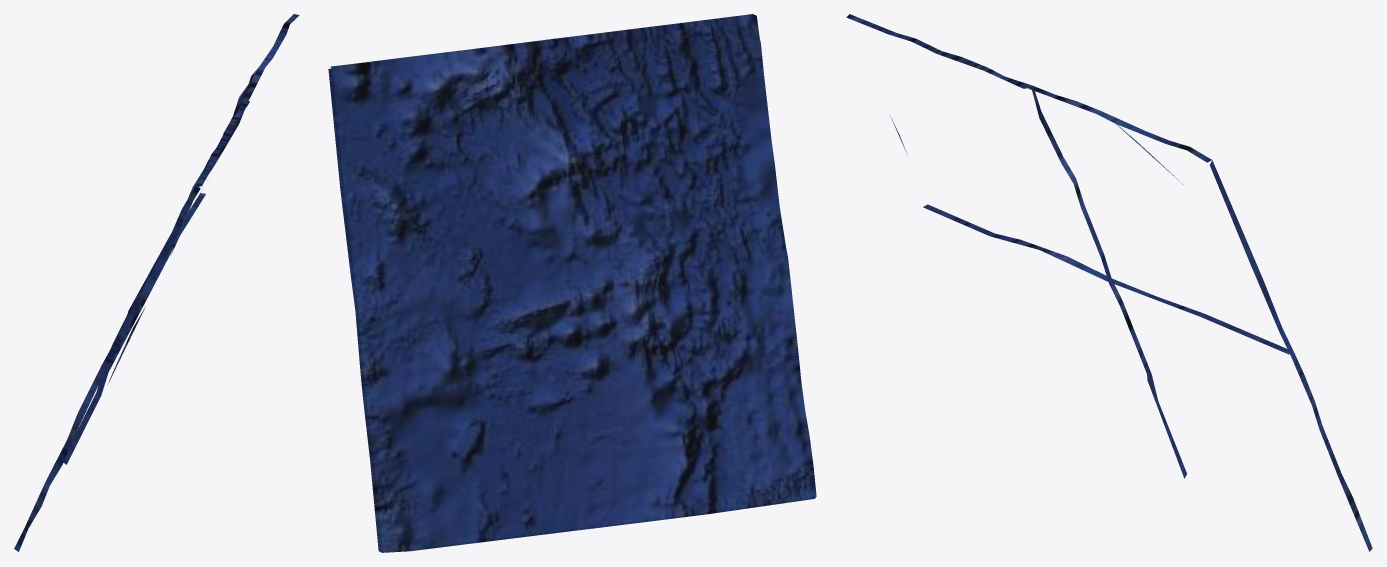
3 views of the same model, side by side, from view 1: azimuth 30°, elevation 25°; view 2: azimuth 150°, elevation 25°; view 3: azimuth 270°, elevation 25° (orthographic). The views are drawn at different scales.
Bounding box in the file's own units: 292857 × 289808 × 299541.
1 material, 1 textured.
